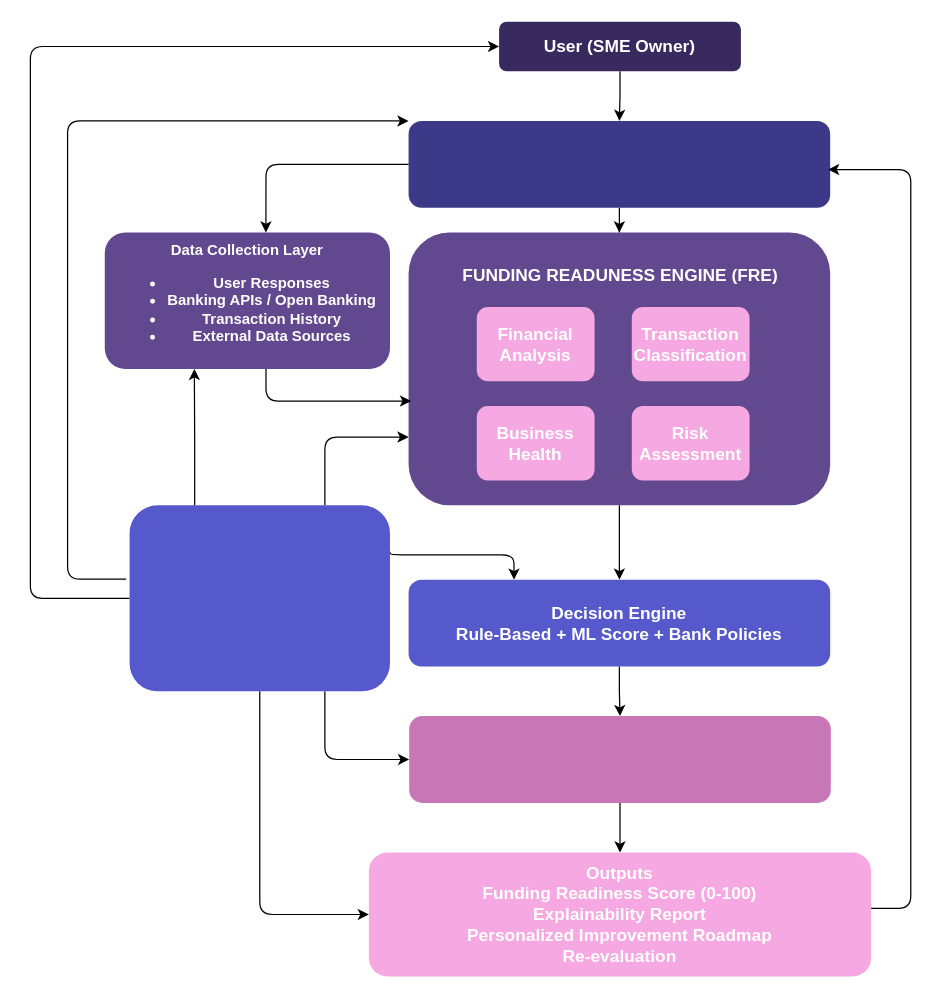
The diagram is 942 pixels wide and 997 high, and some of its shapes have lost their labels. The shapes that lost their labels are listed below. From the top down, each one's box as (x1, y1, x2, y2) in pixels, then its label:
(408, 120, 830, 207): Conversational Interface (Chatbot) NLP
(129, 505, 389, 691): Security & Compliance Encryption GDPR/CBRC Consent Mgmt Audit Logs
(409, 715, 830, 802): Recommendation Engine Personalized Roadmap + Action Plan
